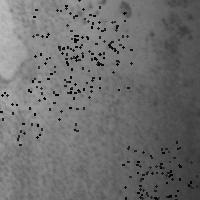pitted_surface: (76, 8, 194, 196), (1, 2, 88, 197), (122, 141, 179, 200), (70, 35, 130, 91), (66, 6, 124, 63), (46, 9, 104, 64), (38, 48, 90, 107), (32, 0, 87, 55), (28, 78, 77, 130), (136, 161, 196, 200), (0, 91, 39, 144)
